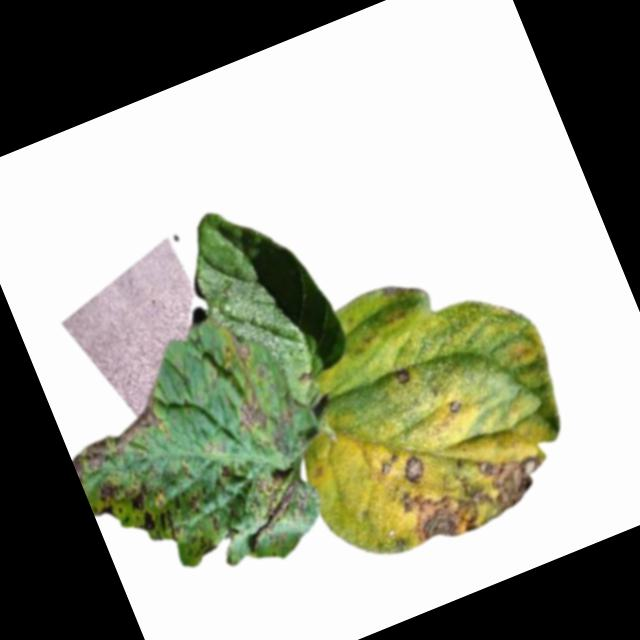Early_blight: (394, 435, 561, 554), (61, 395, 171, 479), (228, 461, 322, 552), (123, 472, 193, 552), (83, 473, 130, 522), (230, 390, 274, 436), (226, 329, 255, 368), (400, 455, 429, 487), (373, 452, 402, 477), (195, 533, 220, 560), (185, 492, 207, 518), (213, 462, 235, 485), (294, 369, 315, 392), (393, 366, 413, 388), (446, 398, 464, 417)
